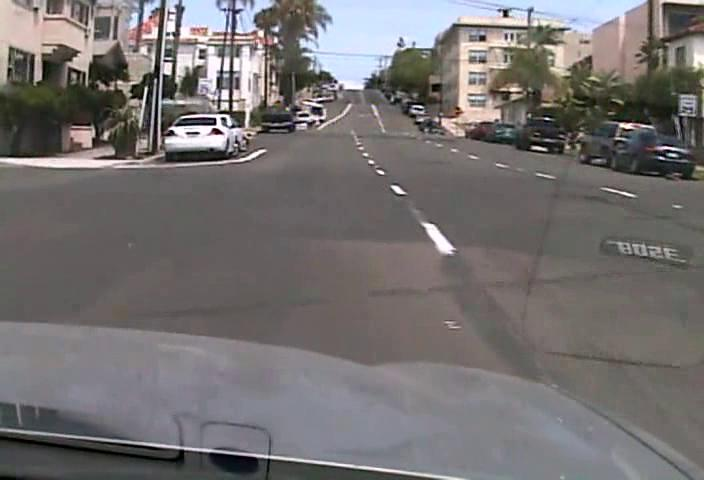speedLimit25: (676, 92, 698, 117)
